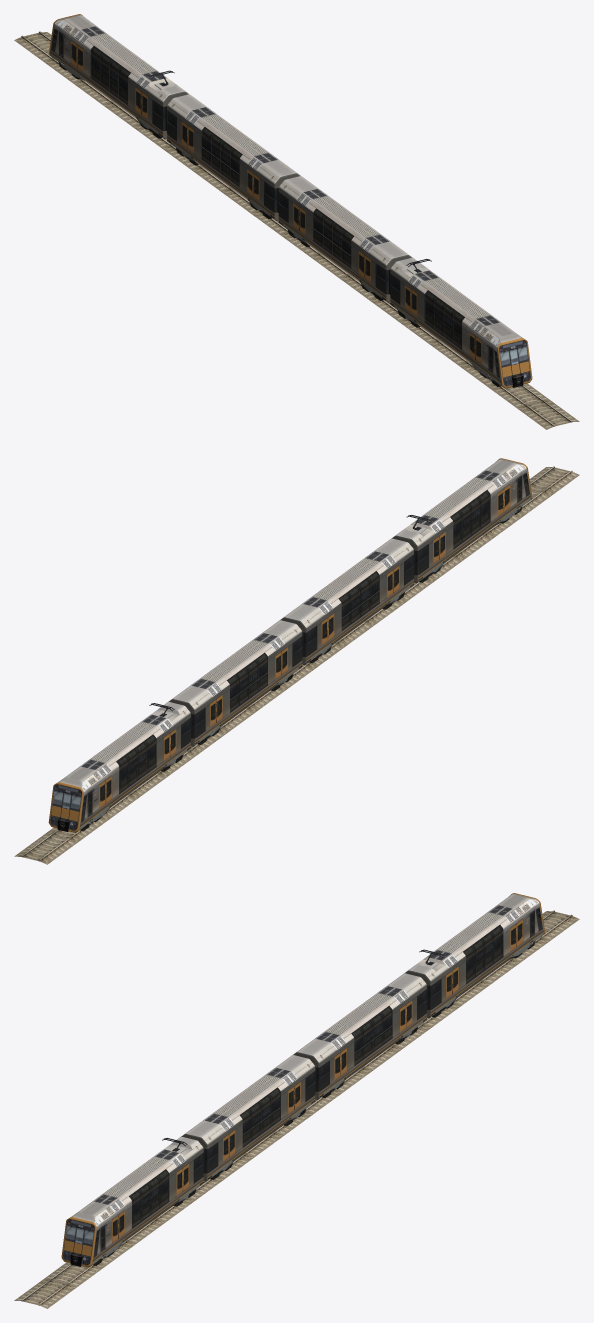
Rendered from train.obj.
3 views of the same model, one above another, from view 1: azimuth 30°, elevation 25°; view 2: azimuth 150°, elevation 25°; view 3: azimuth 330°, elevation 25° (orthographic).
Parts seen in each view (by area): view 1: Object_19, Object_4, Object_28, Object_23, Object_14, Object_31, Object_12, Object_21, Object_7, Object_22, Object_13, Object_30 (+6 smaller); view 2: Object_19, Object_4, Object_28, Object_23, Object_14, Object_7, Object_12, Object_21, Object_31, Object_22, Object_13, Object_6 (+6 smaller); view 3: Object_19, Object_4, Object_28, Object_23, Object_14, Object_31, Object_12, Object_21, Object_7, Object_22, Object_13, Object_30 (+6 smaller).
Part boxes in pixels (bbox=[...]): Object_19: bbox=[14, 31, 579, 429]; Object_4: bbox=[50, 14, 184, 133]; Object_28: bbox=[390, 258, 523, 382]; Object_23: bbox=[278, 176, 412, 302]; Object_14: bbox=[167, 95, 300, 220]; Object_31: bbox=[390, 258, 532, 388]; Object_12: bbox=[167, 94, 296, 215]; Object_21: bbox=[278, 176, 407, 297]; Object_7: bbox=[48, 14, 189, 139]; Object_22: bbox=[313, 208, 354, 268]; Object_13: bbox=[201, 127, 242, 187]; Object_30: bbox=[424, 290, 464, 349]; Object_19: bbox=[14, 466, 579, 864]; Object_4: bbox=[57, 702, 190, 826]; Object_28: bbox=[396, 459, 530, 578]; Object_23: bbox=[280, 539, 413, 664]; Object_14: bbox=[168, 620, 302, 746]; Object_7: bbox=[48, 702, 190, 832]; Object_12: bbox=[173, 620, 302, 741]; Object_21: bbox=[285, 538, 413, 659]; Object_31: bbox=[391, 458, 532, 583]; Object_22: bbox=[338, 571, 379, 631]; Object_13: bbox=[227, 652, 267, 712]; Object_6: bbox=[116, 734, 156, 793]; Object_19: bbox=[14, 910, 579, 1308]; Object_4: bbox=[409, 893, 543, 1012]; Object_28: bbox=[70, 1137, 203, 1261]; Object_23: bbox=[181, 1055, 315, 1181]; Object_14: bbox=[293, 974, 426, 1099]; Object_31: bbox=[61, 1137, 203, 1267]; Object_12: bbox=[297, 973, 426, 1094]; Object_21: bbox=[186, 1055, 315, 1176]; Object_7: bbox=[404, 893, 545, 1018]; Object_22: bbox=[239, 1087, 280, 1147]; Object_13: bbox=[351, 1006, 392, 1066]; Object_30: bbox=[129, 1169, 169, 1228].
Bounding box in the file's own units: 1.97 × 3.31 × 54.35.
